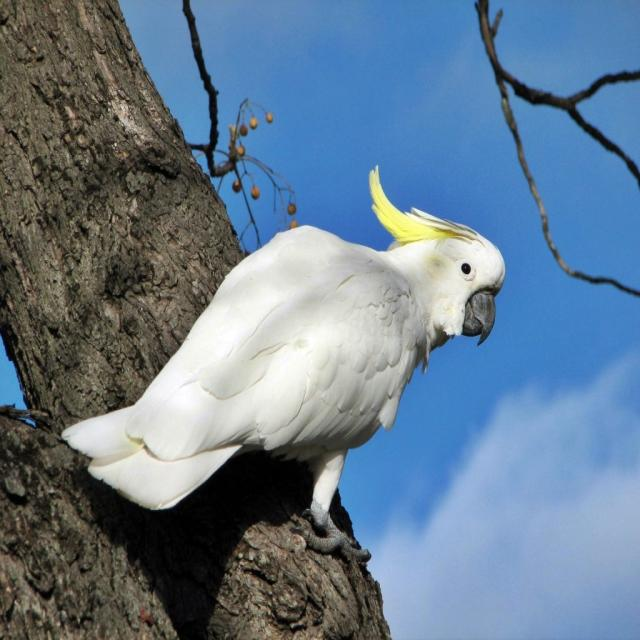Kakatua Putih: (41, 140, 525, 574)
